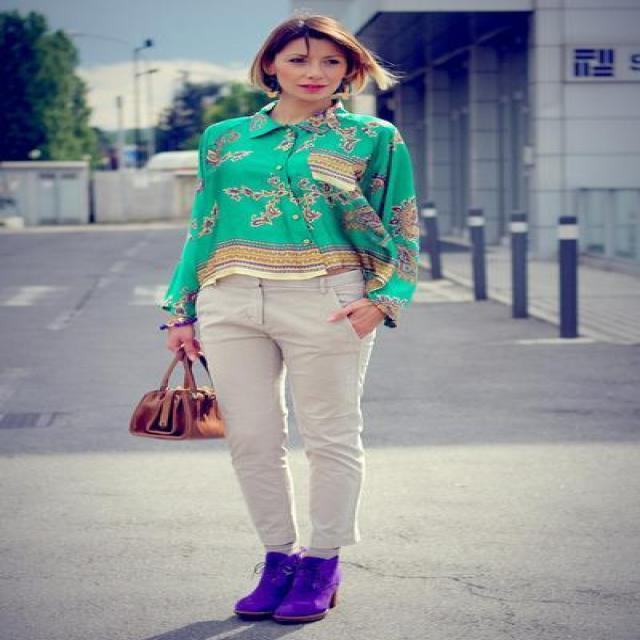bag: (130, 320, 226, 439)
pants: (194, 269, 382, 561)
shirt: (162, 100, 442, 320)
shoe: (235, 551, 338, 624)
